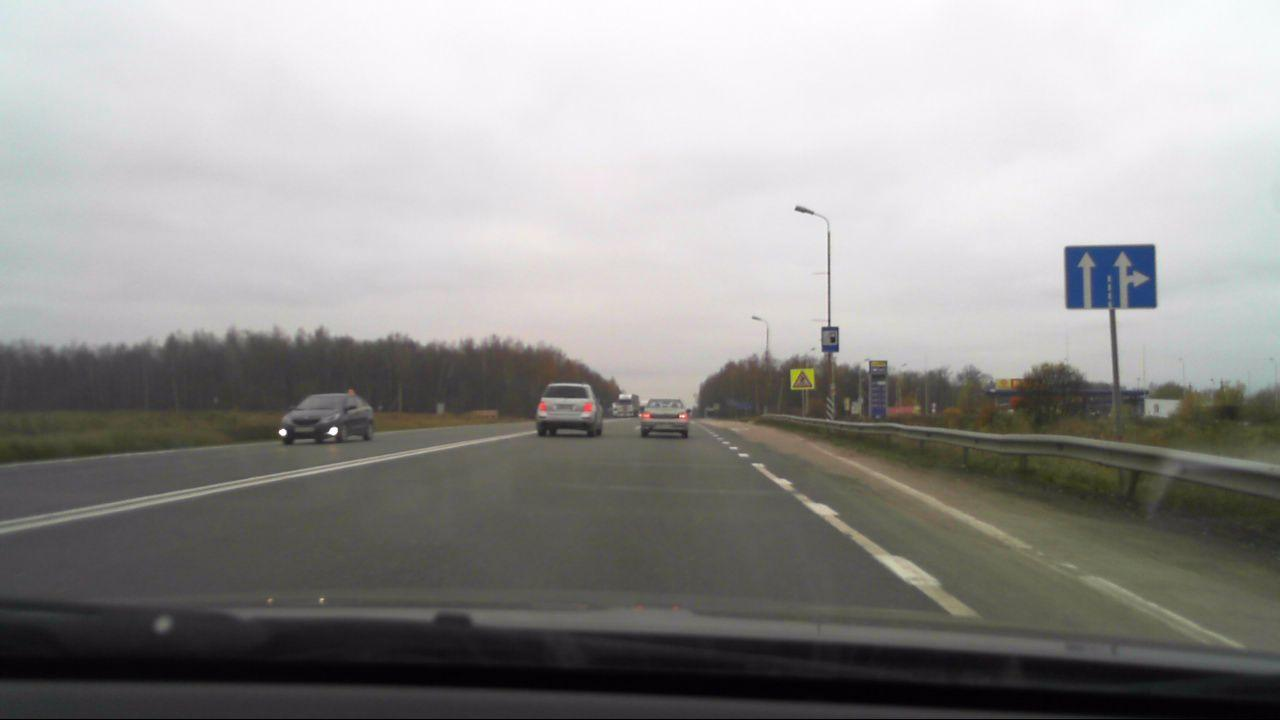1_22: (793, 367, 814, 391)
5_15_1: (1063, 244, 1161, 309)
7_3: (821, 325, 838, 353)
